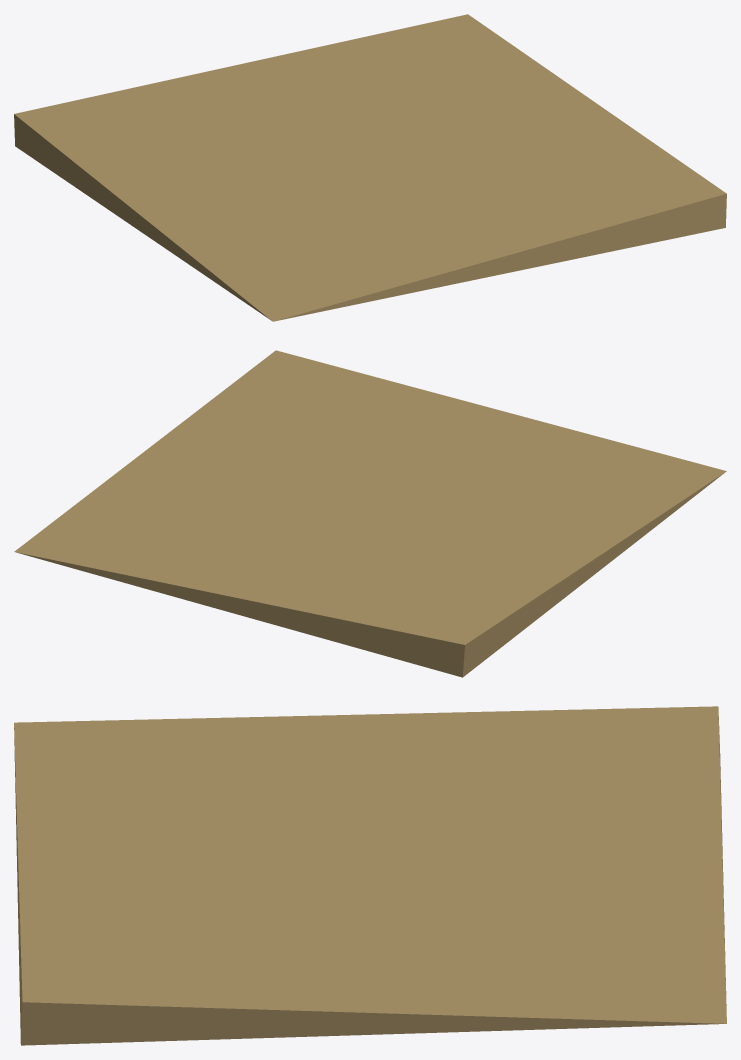
The model's file is coast-beach-straight.lod2.glb.
The picture shows the model from 3 angles, top to bottom: view 1: azimuth 30°, elevation 25°; view 2: azimuth 150°, elevation 25°; view 3: azimuth 270°, elevation 25°; orthographic projection. The views are drawn at different scales.
Parts seen in each view (by area): view 1: coast-beach-straight__body; view 2: coast-beach-straight__body; view 3: coast-beach-straight__body.
Part boxes in pixels (left/top/right/bottom): coast-beach-straight__body: left=14, top=14, right=726, bottom=321; coast-beach-straight__body: left=14, top=350, right=726, bottom=677; coast-beach-straight__body: left=14, top=706, right=726, bottom=1045.
Size of the model in its own units: 4.01 by 0.2765 by 4.01.
